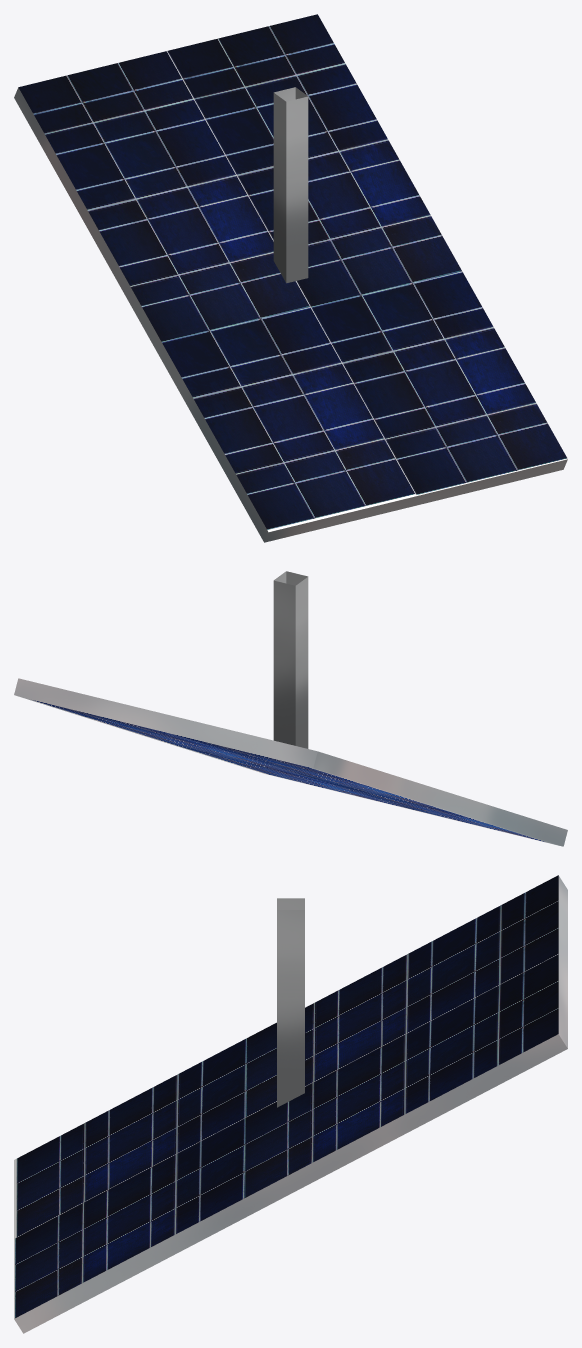
The model's file is SolarCell@spawn.fbx.
The picture shows the model from 3 angles, top to bottom: view 1: azimuth 30°, elevation 25°; view 2: azimuth 150°, elevation 25°; view 3: azimuth 270°, elevation 25°; orthographic projection. The views are drawn at different scales.
Visible parts, largest first — view 1: SolarCell; view 2: SolarCell; view 3: SolarCell.
Boxes of the visible parts, box(x1,y1,x2,y2) form: SolarCell: box(14, 14, 567, 542); SolarCell: box(14, 571, 567, 846); SolarCell: box(14, 875, 567, 1333).
Bounding box in the file's own units: 1.93 × 1.98 × 2.85.
